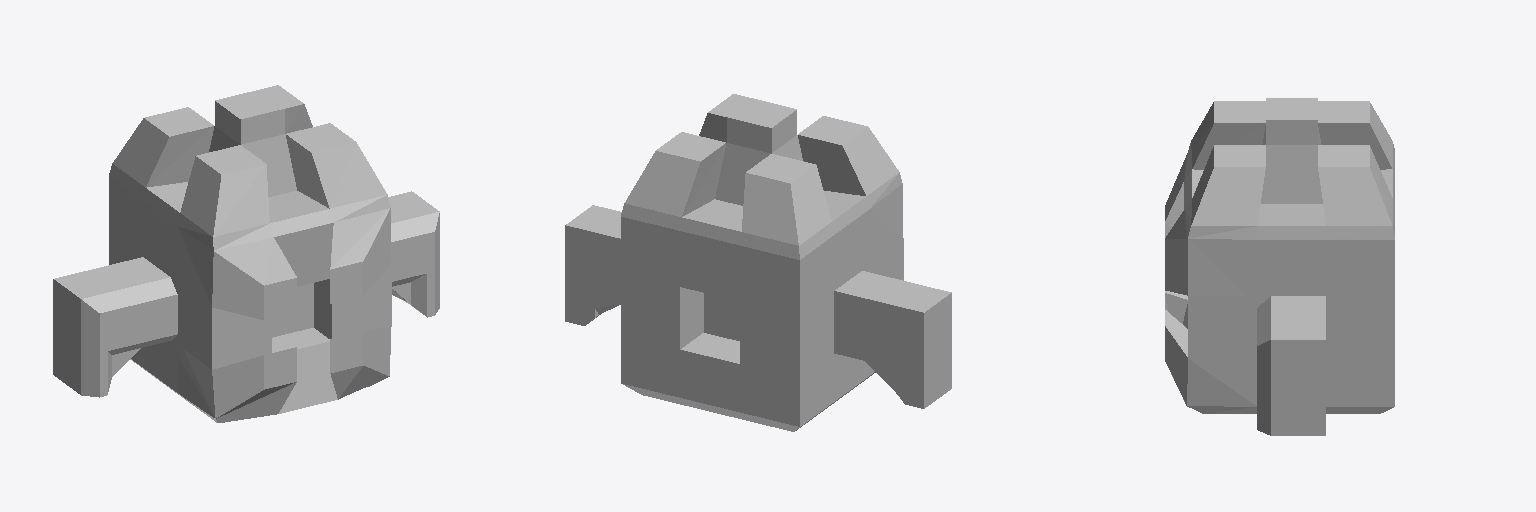
Rendered from Dice Rocket.obj.
The picture shows the model from 3 angles: view 1: azimuth 30°, elevation 25°; view 2: azimuth 150°, elevation 25°; view 3: azimuth 270°, elevation 25°; orthographic projection.
Visible parts, largest first — view 1: Cube; view 2: Cube; view 3: Cube.
Part boxes in pixels (x1,y1,x2,y2): Cube: (53,85,439,422); Cube: (565,94,951,431); Cube: (1165,98,1394,435).
Bounding box in the file's own units: 4 × 3.13 × 2.23.